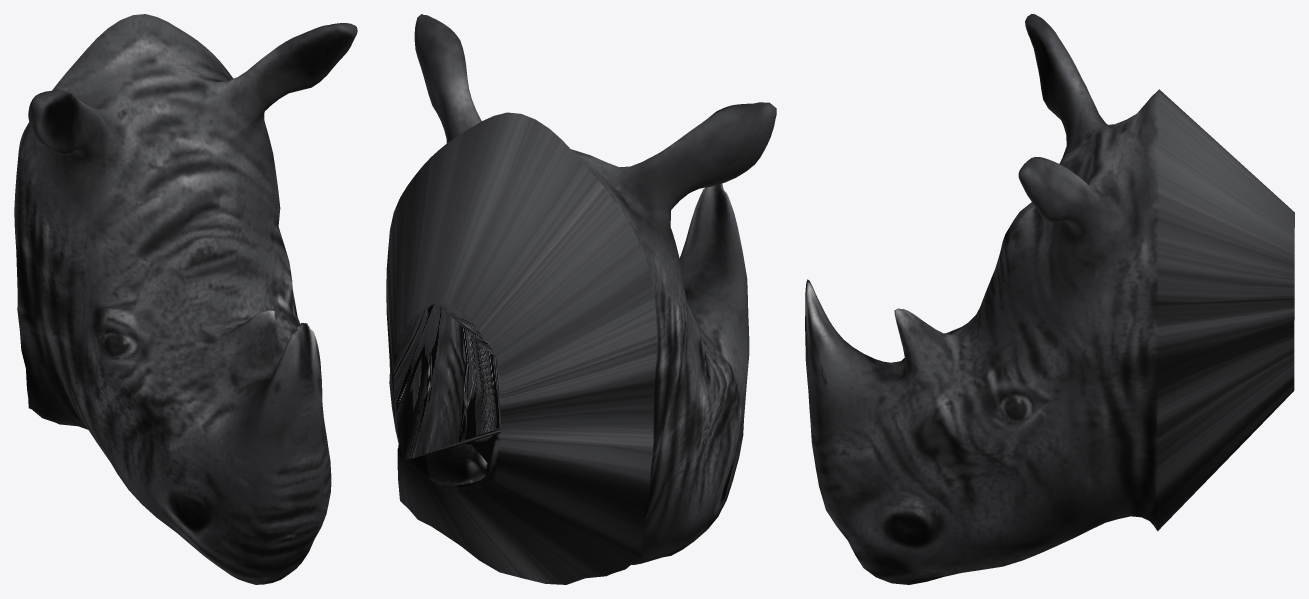
The model's file is HeadRhino.obj.
3 renders of one model, left to right at view 1: azimuth 30°, elevation 25°; view 2: azimuth 150°, elevation 25°; view 3: azimuth 270°, elevation 25°, orthographic. The views are drawn at different scales.
Parts seen in each view (by area): view 1: Rhino_Quad.001; view 2: Rhino_Quad.001; view 3: Rhino_Quad.001.
Boxes of the visible parts, left/top/right/bottom form: Rhino_Quad.001: left=14, top=14, right=357, bottom=584; Rhino_Quad.001: left=386, top=14, right=776, bottom=584; Rhino_Quad.001: left=805, top=14, right=1294, bottom=584.
Size of the model in its own units: 0.7732 by 1.1 by 0.9976.
1 material, 1 textured.
